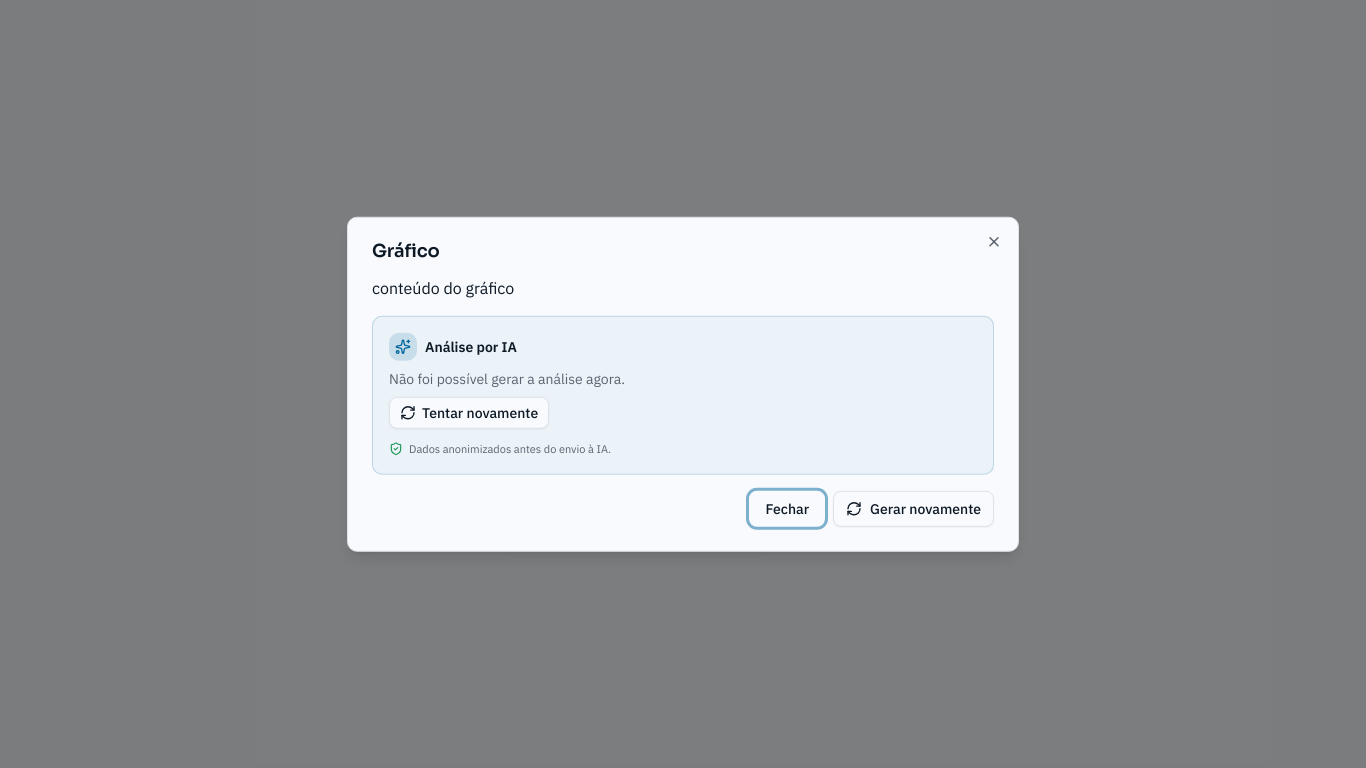
Test: GraficoInsightDialog › mostra erro e permite tentar novamente quando a IA falha
expect the text "Não foi possível gerar a análise agora." is shown: met, box 389,370 -> 625,388
Click the button "Tentar novamente" at (469, 413), box 389,397 -> 549,429
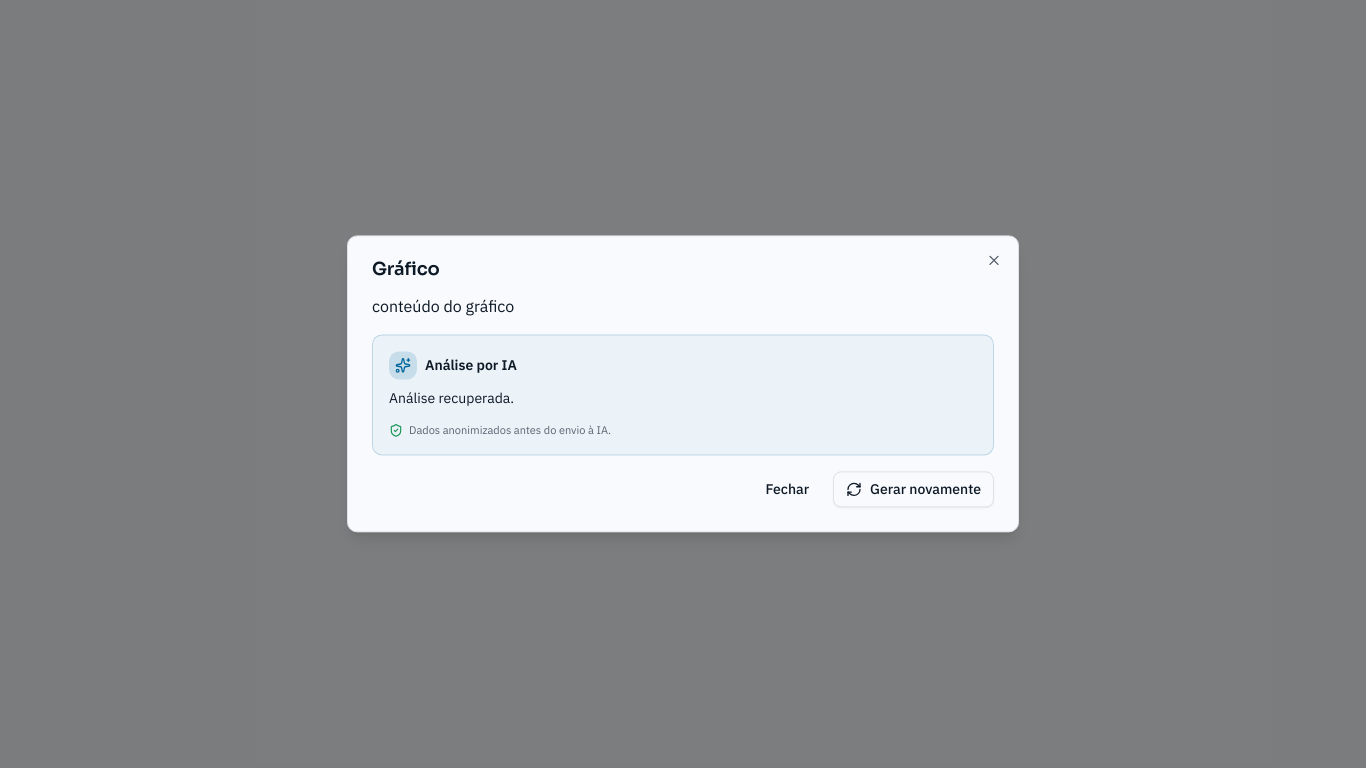
expect the text "Análise recuperada." is shown: met, box 389,389 -> 514,407
